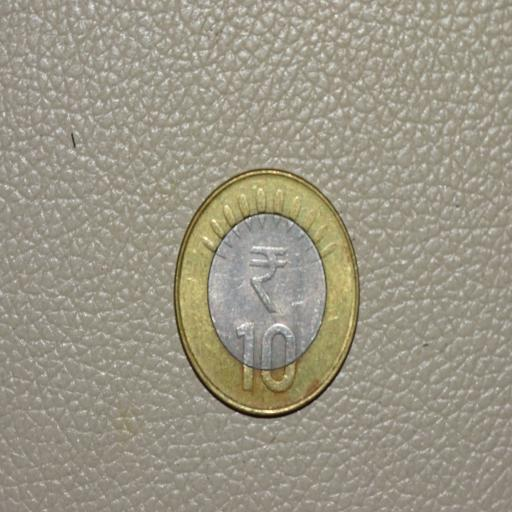rupee10: (171, 167, 362, 418)
